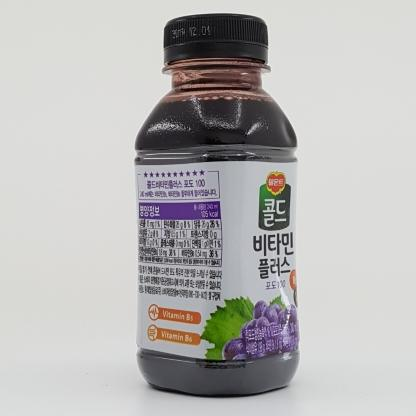---------------240ML: (134, 13, 300, 395)
